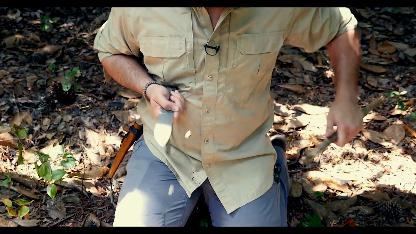knife: (148, 87, 184, 149)
